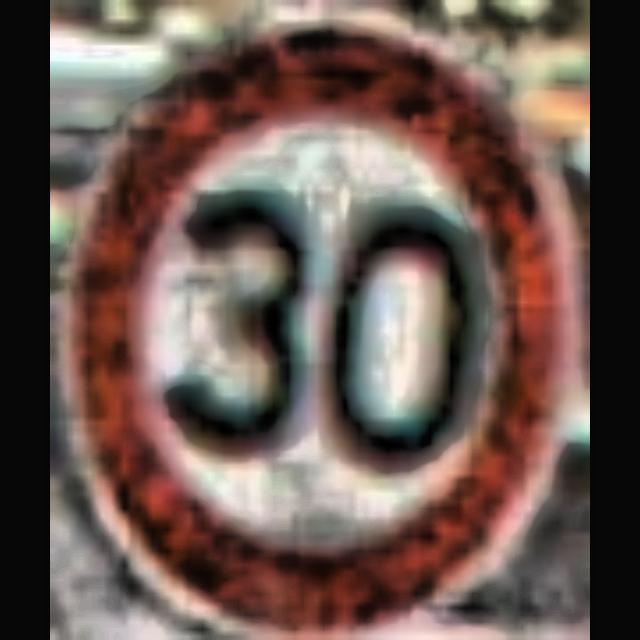speed_30: (50, 4, 590, 640)
